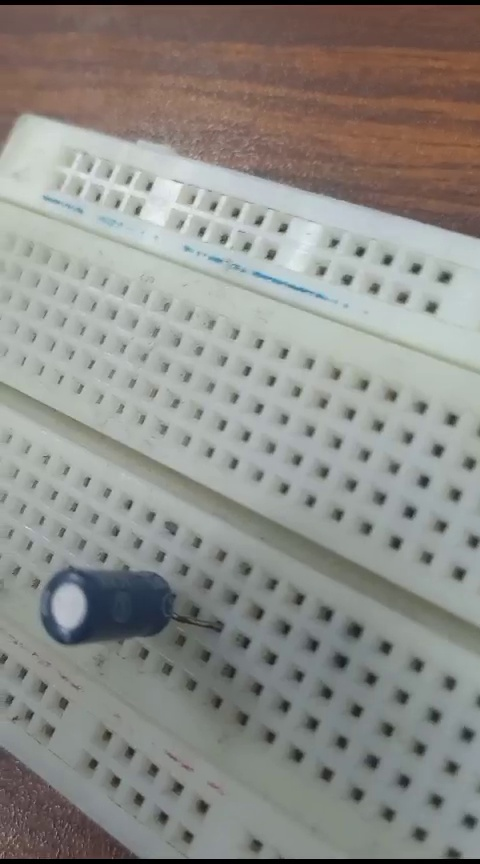capacitor: (33, 557, 208, 651)
